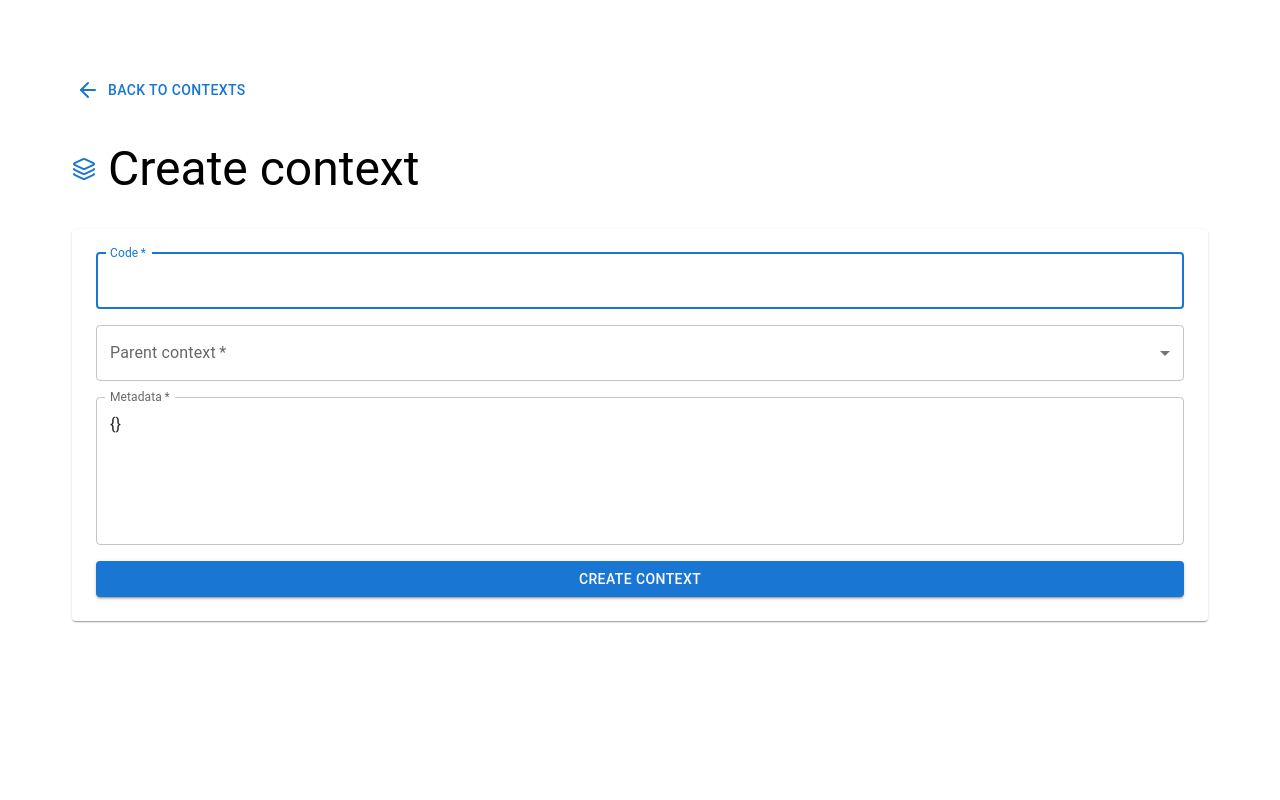
Test: CreateContextPage › asks for the code and parent when they are missing
Expected: the dropdown named "Parent context" is shown, [96,324,1184,380]
What coordinates should you click on to do the following:
click the button "Create context"
I would click on:
 (640, 579)
Its box is [96,560,1184,597].
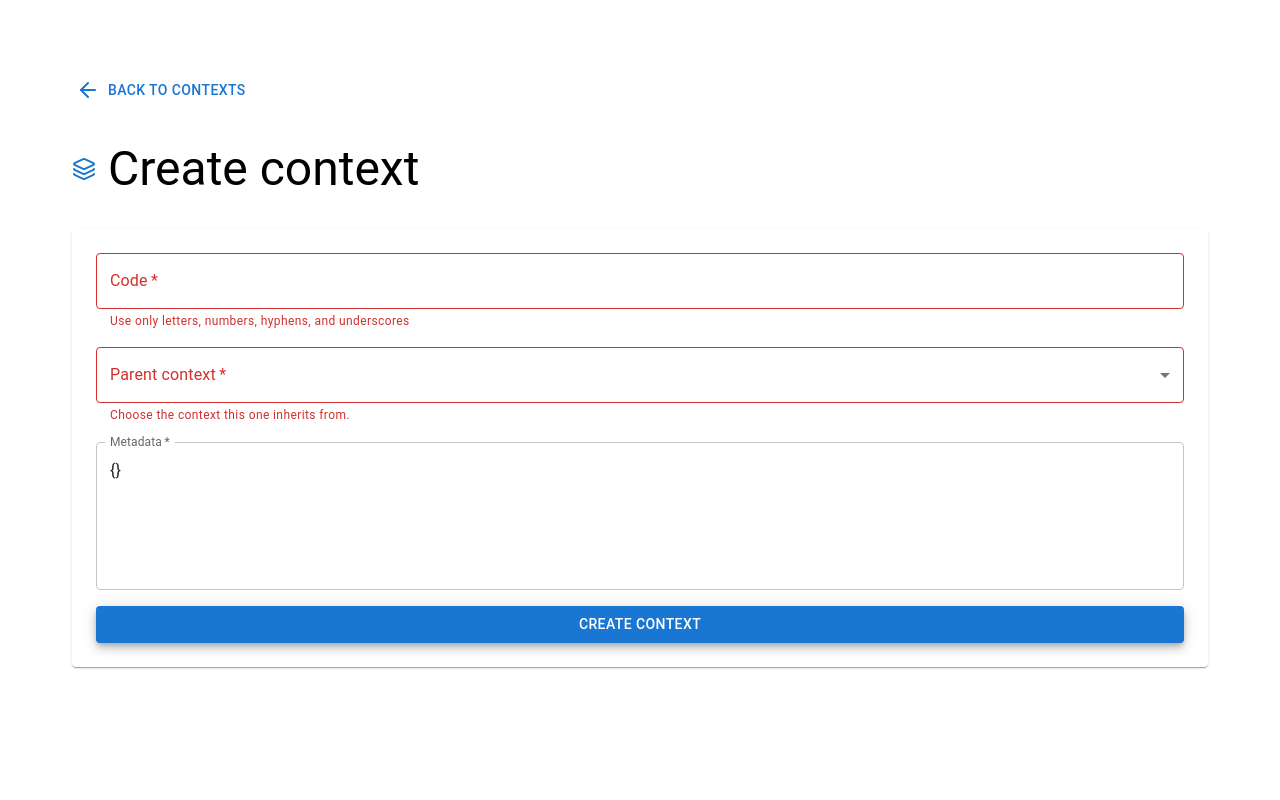
Now the text "Choose the context this one inherits from." is shown, box [110,408,350,422]
Now the text "Use only letters, numbers, hyphens, and underscores" is shown, box [110,314,410,328]
